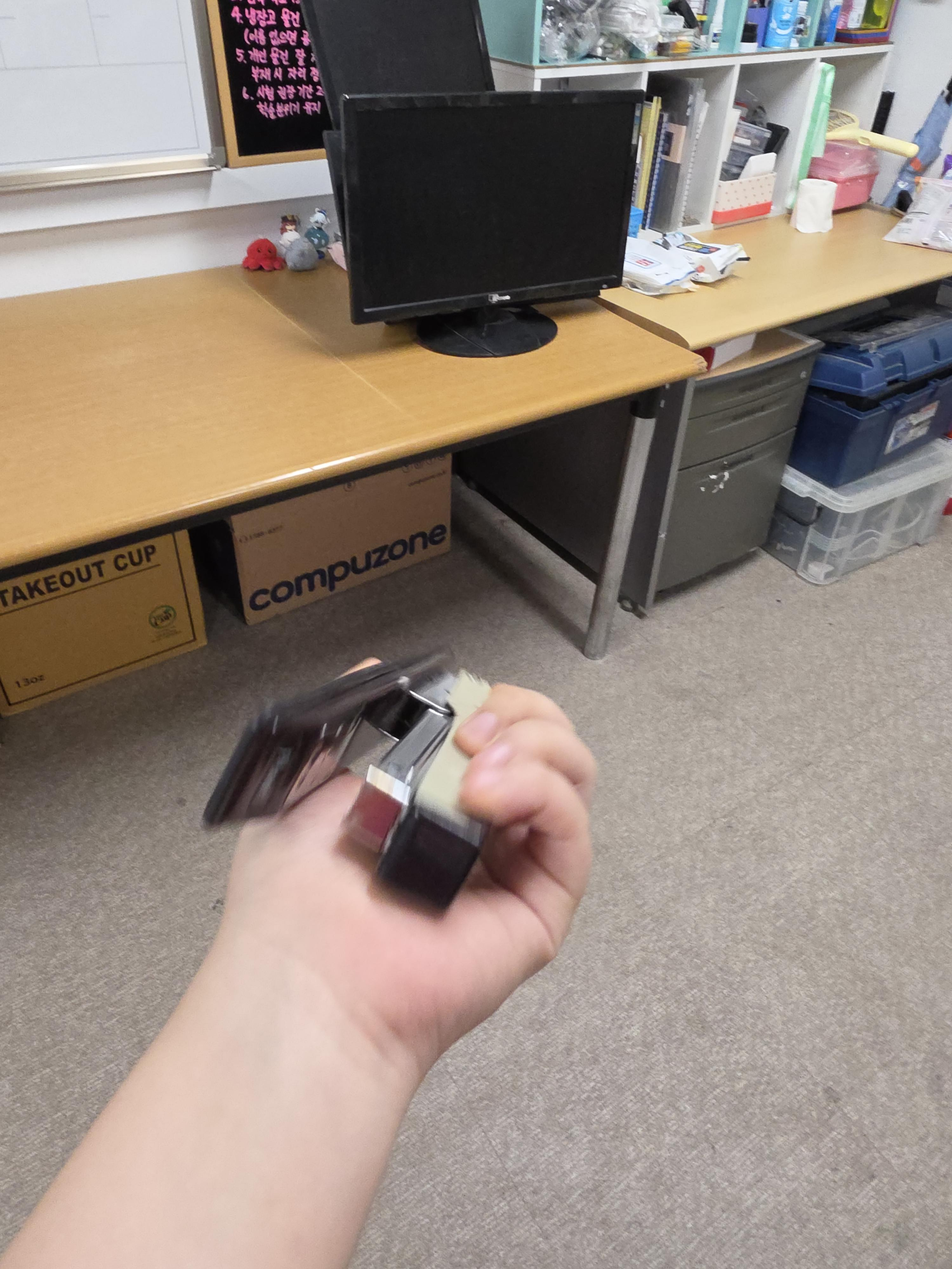stapler: (201, 652, 491, 913)
tissue: (710, 152, 778, 226), (791, 178, 837, 234)
